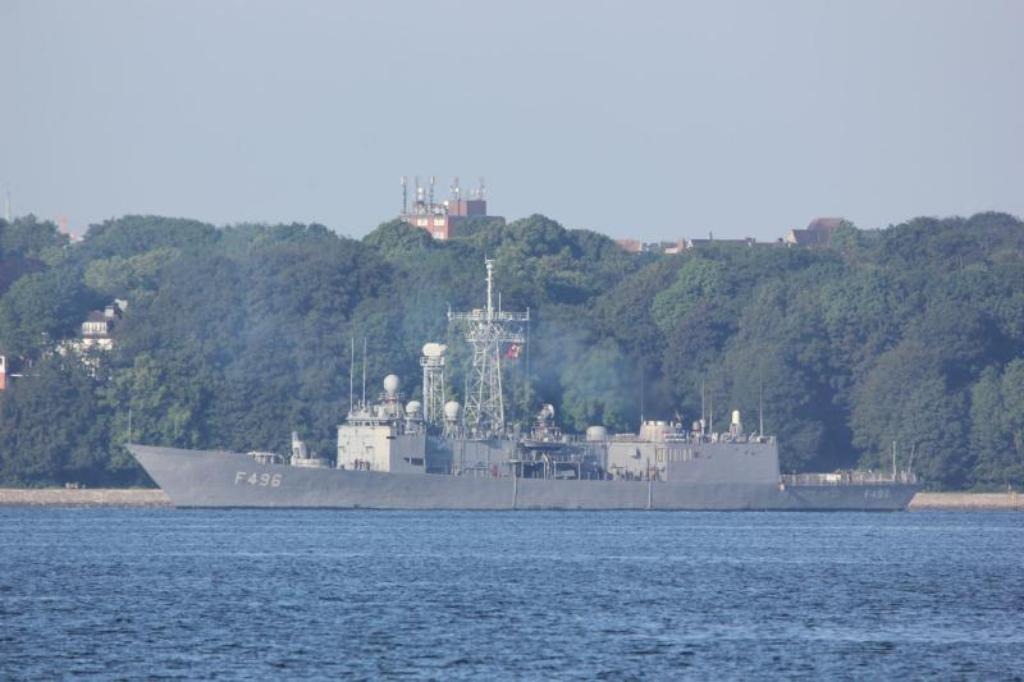Warship: (116, 255, 938, 517)
